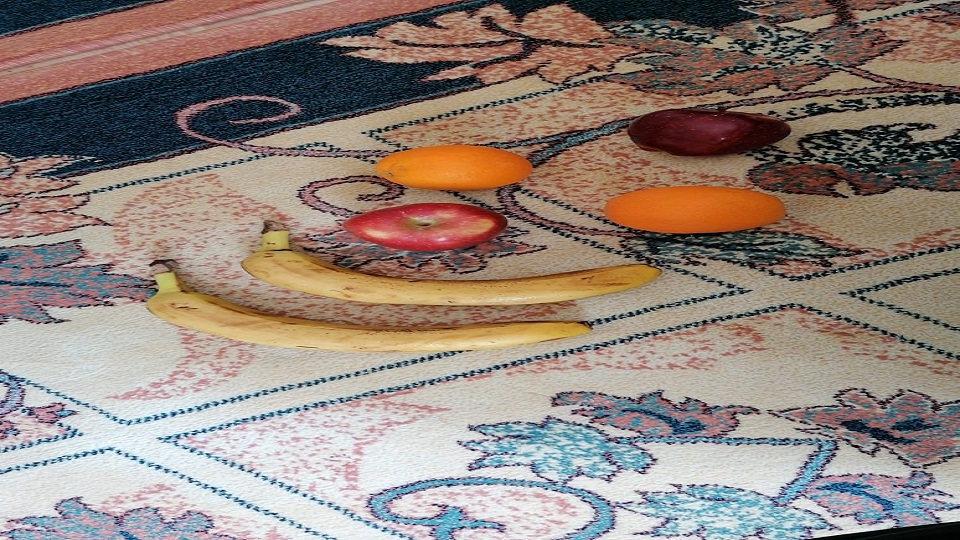elma: (342, 202, 510, 254), (627, 106, 792, 157)
muz: (145, 259, 596, 354), (241, 222, 664, 307)
portakal: (602, 184, 786, 235), (374, 144, 534, 192)
